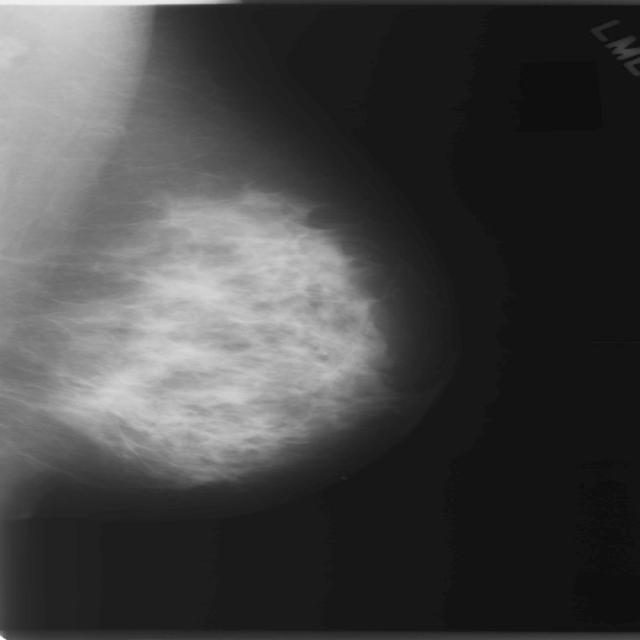tumour: (51, 368, 165, 422)
